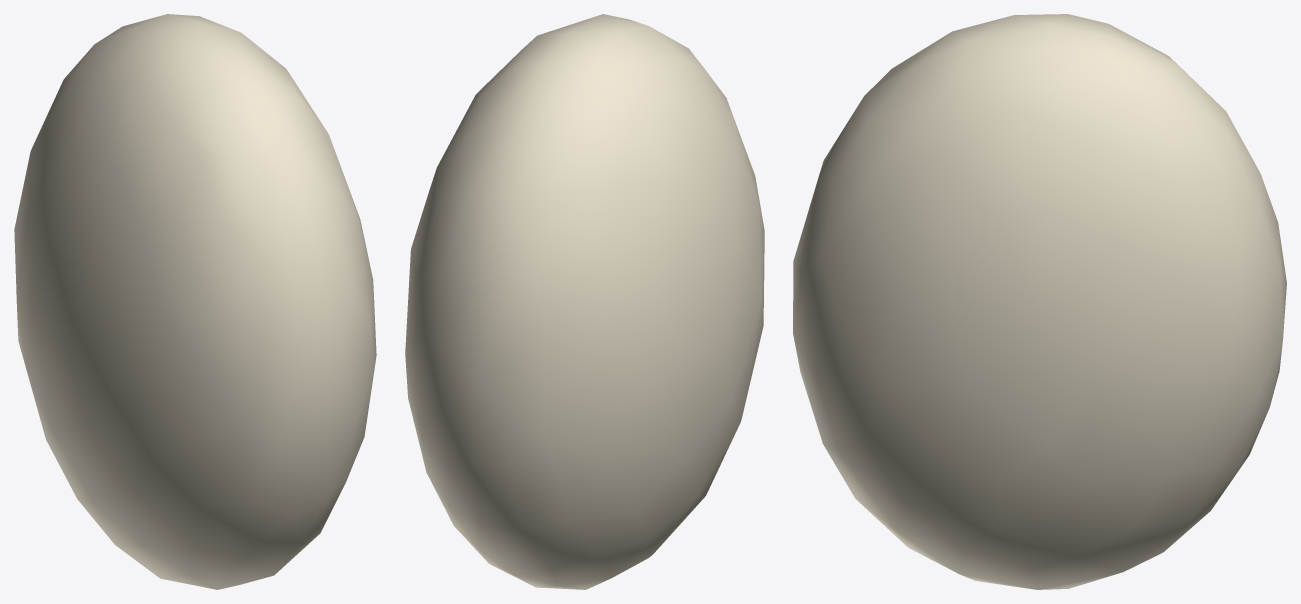
Rendered from patella_r.glb.
3 views of the same model, side by side, from view 1: azimuth 30°, elevation 25°; view 2: azimuth 150°, elevation 25°; view 3: azimuth 270°, elevation 25° (orthographic). The views are drawn at different scales.
Visible parts, largest first — view 1: geometry_0; view 2: geometry_0; view 3: geometry_0.
Boxes of the visible parts, x1,y1,x2,y2 form: geometry_0: (14,14,376,589); geometry_0: (405,14,764,589); geometry_0: (793,14,1286,589).
Bounding box in the file's own units: 0.0522 × 0.0999 × 0.0799.
